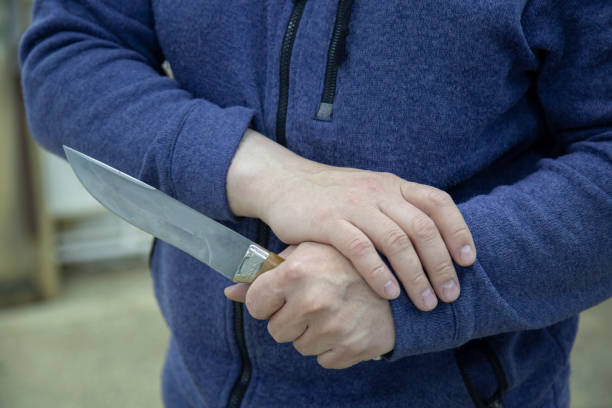knife: (63, 144, 282, 288)
